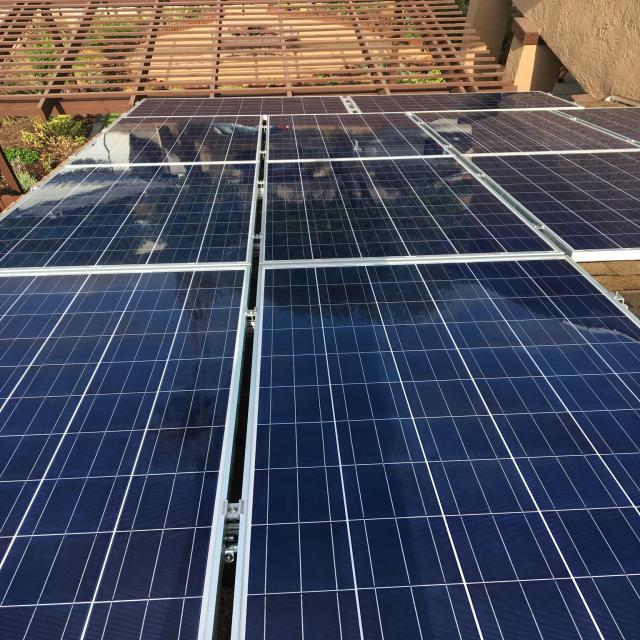clean-solar-panel: (0, 91, 640, 640)
